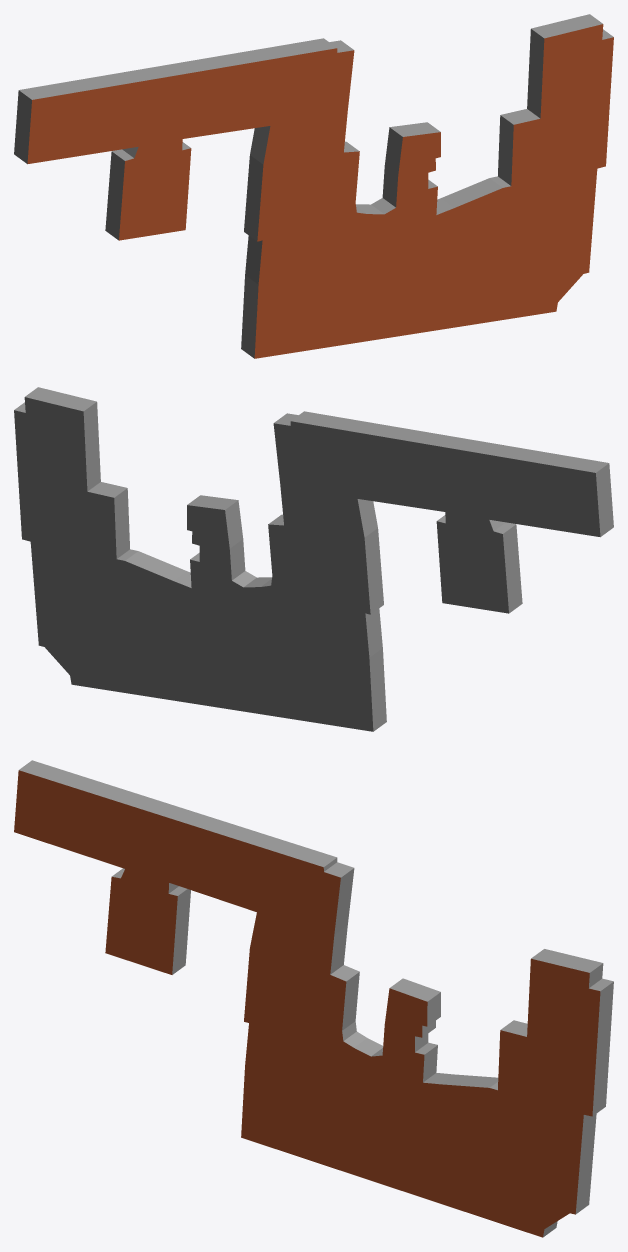
File: construction_7074_assumed_A_Casa_h6m.obj
3 renders of one model, top to bottom at view 1: azimuth 30°, elevation 25°; view 2: azimuth 150°, elevation 25°; view 3: azimuth 330°, elevation 25°, orthographic.
Visible parts, largest first — view 1: construction_7074_assumed_A_Casa; view 2: construction_7074_assumed_A_Casa; view 3: construction_7074_assumed_A_Casa.
Boxes of the visible parts, box(x1,y1,x2,y2) form: construction_7074_assumed_A_Casa: box(14, 14, 613, 358); construction_7074_assumed_A_Casa: box(14, 387, 613, 731); construction_7074_assumed_A_Casa: box(14, 760, 613, 1237).
Size of the model in its own units: 150 by 83.21 by 6.
